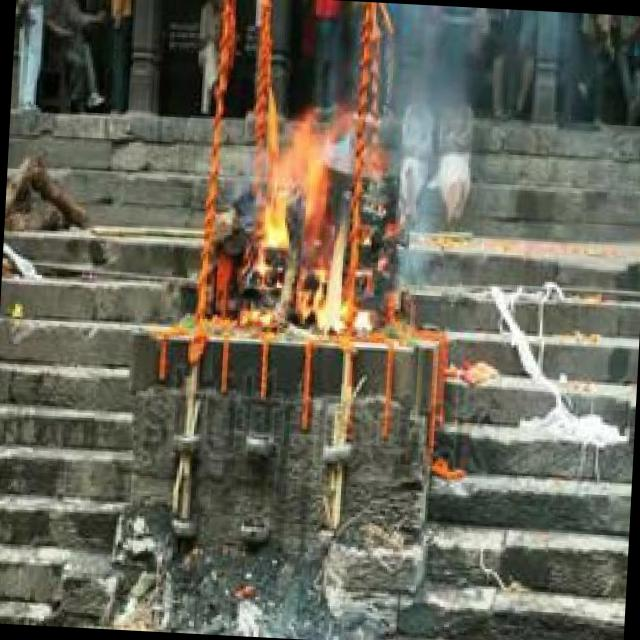Fire: (248, 110, 382, 332)
